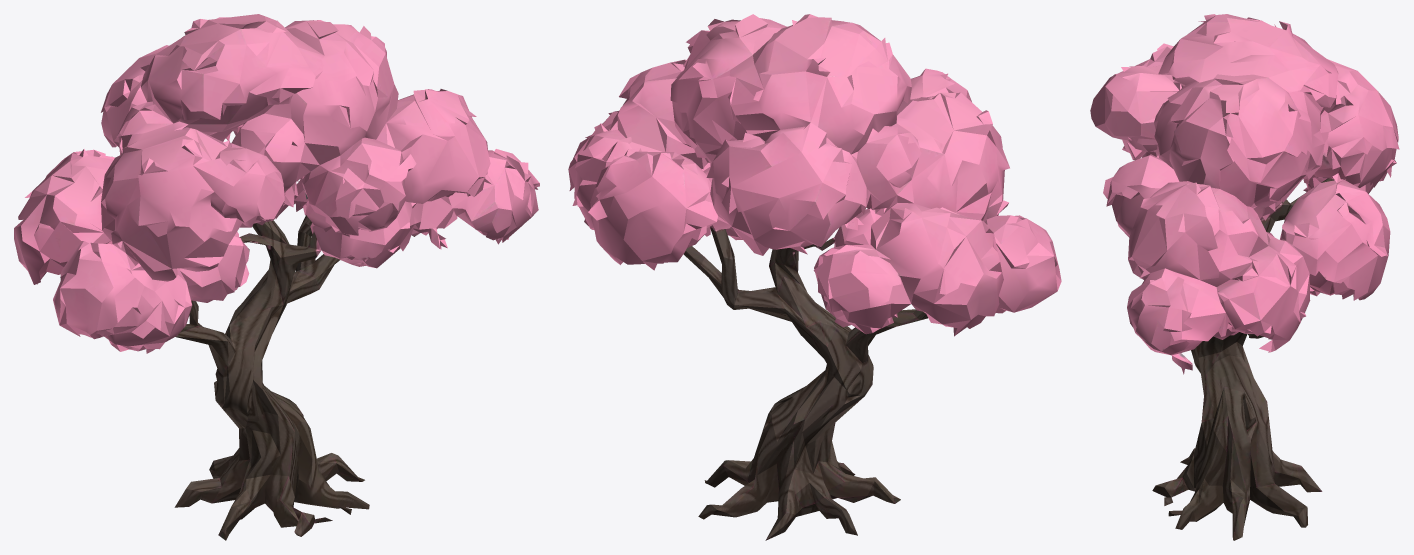
Rendered from veg_sakura_a_v001.glb.
3 renders of one model, left to right at view 1: azimuth 30°, elevation 25°; view 2: azimuth 150°, elevation 25°; view 3: azimuth 270°, elevation 25°, orthographic. The views are drawn at different scales.
Visible parts, largest first — view 1: output_unwrapped; view 2: output_unwrapped; view 3: output_unwrapped.
Part boxes in pixels (bbox=[...]): output_unwrapped: bbox=[14, 14, 539, 540]; output_unwrapped: bbox=[568, 14, 1061, 540]; output_unwrapped: bbox=[1090, 14, 1399, 540].
Size of the model in its own units: 7.03 by 7 by 4.19.
1 material, 1 textured.
